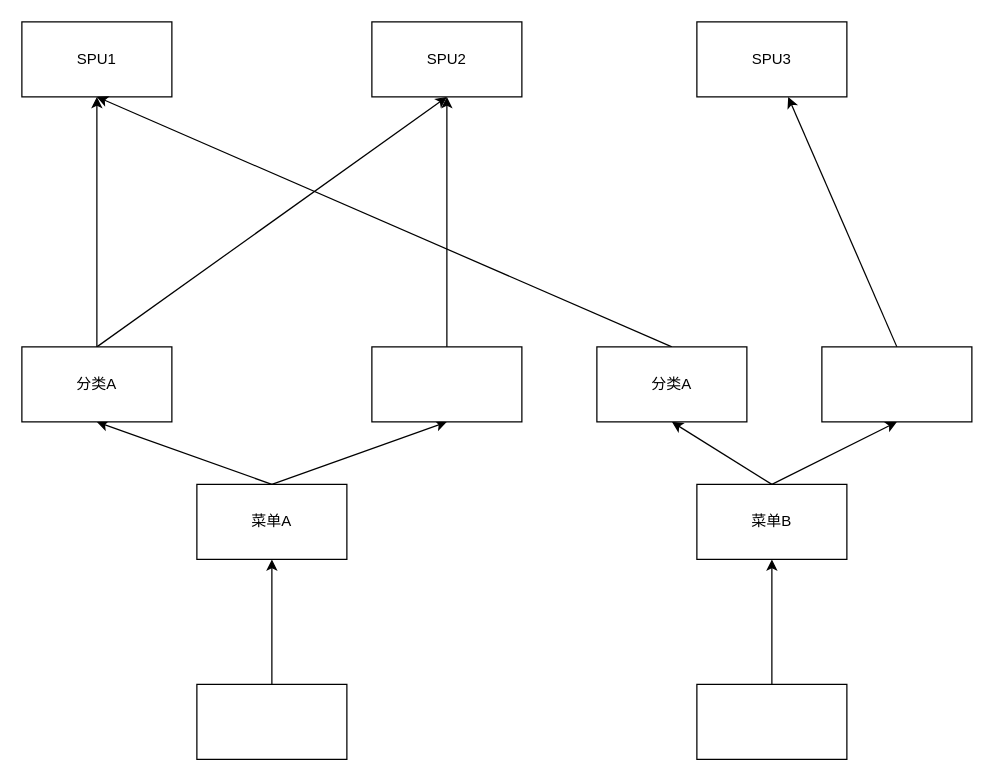
Image size: 994x781. Some labels were removed from this diagram. Here are the shapes that lost their labels. From the top down, the centre of each, then its label:
the point at 446,384: 分类B
the point at 896,384: 分类C
the point at 271,721: 门店1
the point at 771,721: 门店2
